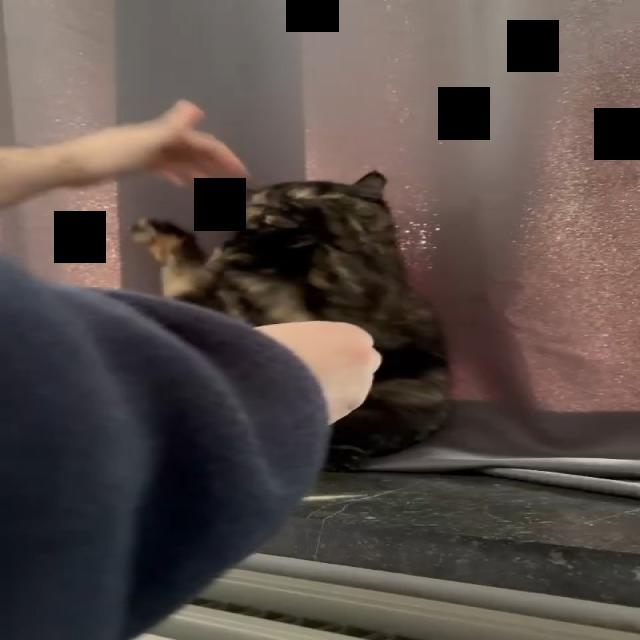authorized: (128, 168, 453, 471)
